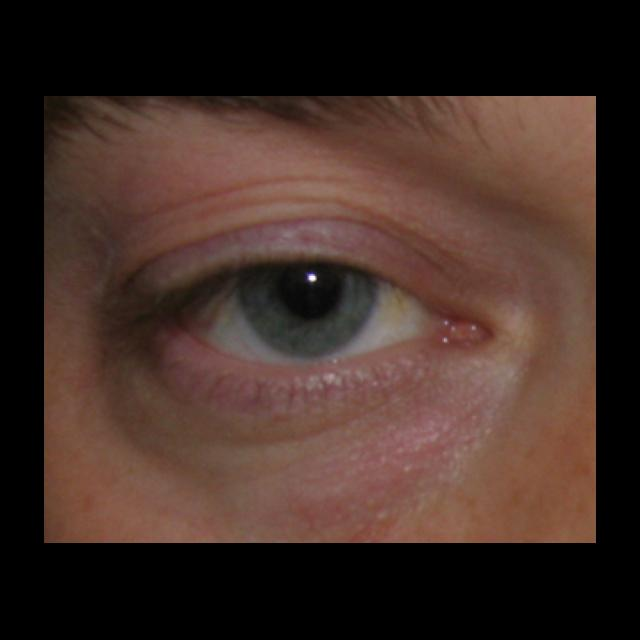eye: (184, 266, 441, 368)
iris: (238, 269, 377, 358)
